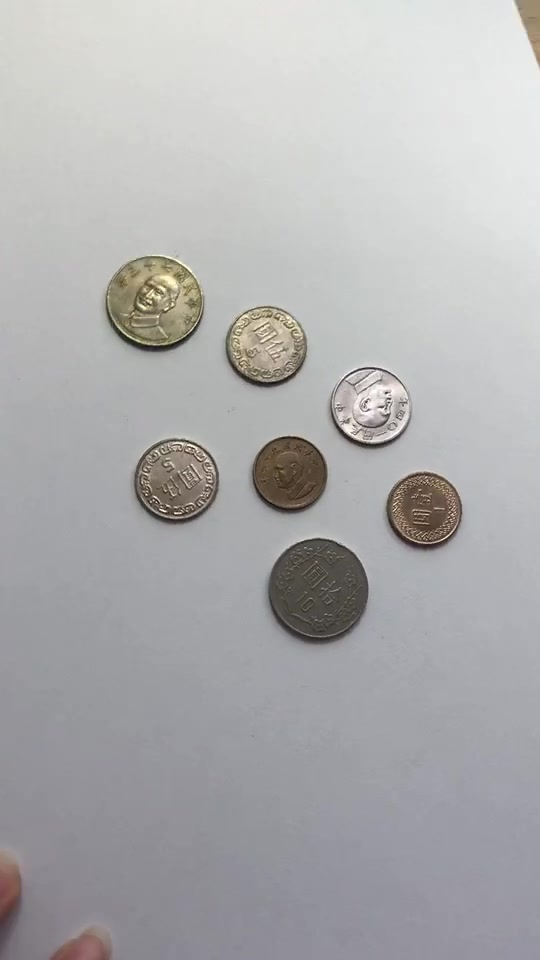1 dallar: (238, 432, 336, 528), (380, 458, 478, 554)
10 dallar: (92, 239, 217, 358), (255, 530, 380, 649)
5 dallar: (120, 430, 231, 525), (209, 302, 320, 397), (322, 353, 421, 446)
